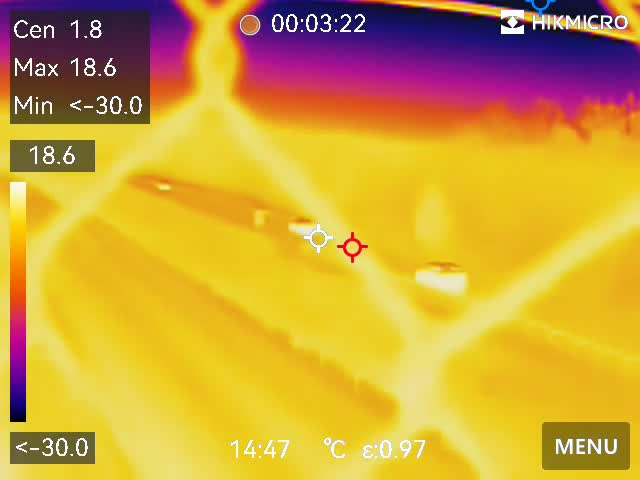vehicle: (407, 255, 472, 289), (283, 215, 326, 230)
